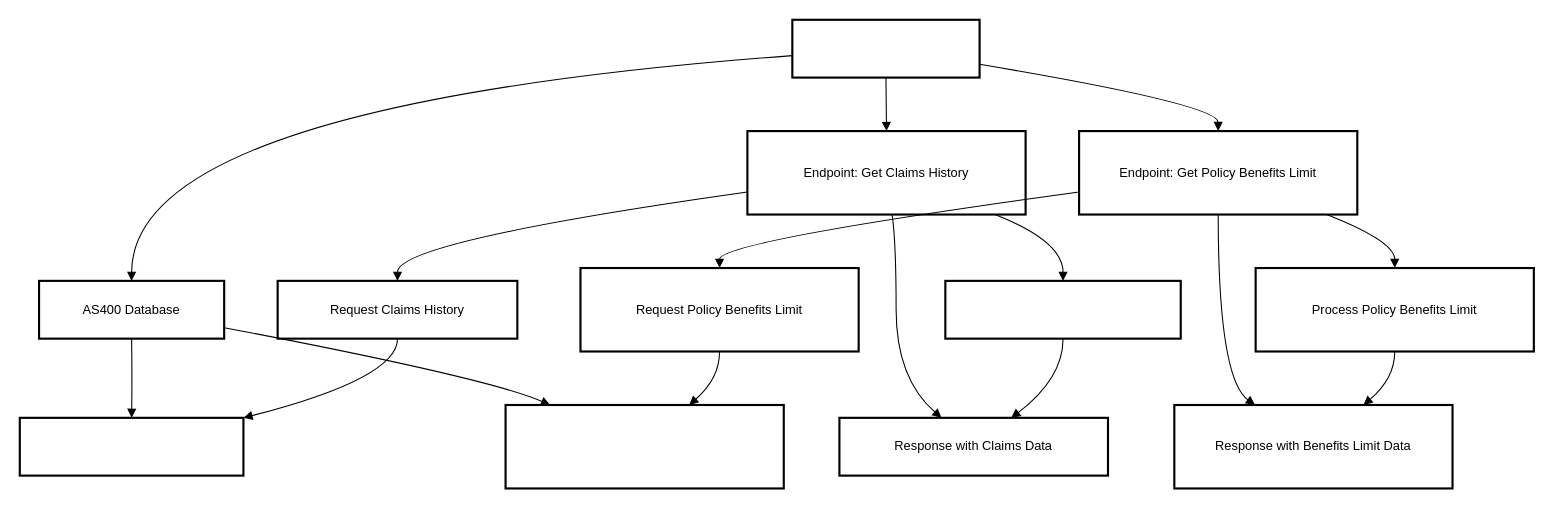
This 1553x507 diagram has some shape labels left out. The shapes that lost their labels are listed below. From the top down, each one's box as (x1, y1, x2, y2) in pixels, then its label:
(791, 18, 980, 78): Backend System
(944, 279, 1181, 339): Process Claims History
(18, 416, 244, 476): Retrieve Claims Data
(504, 403, 784, 489): Retrieve Benefits Limit Data
